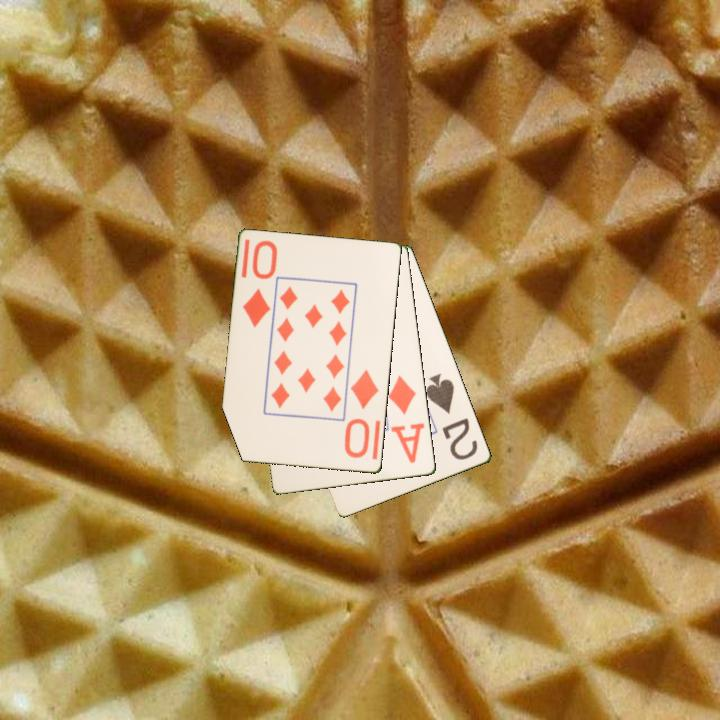10d: (341, 366, 382, 461), (239, 237, 279, 330)
2s: (422, 370, 481, 463)
Ad: (385, 372, 428, 466)
